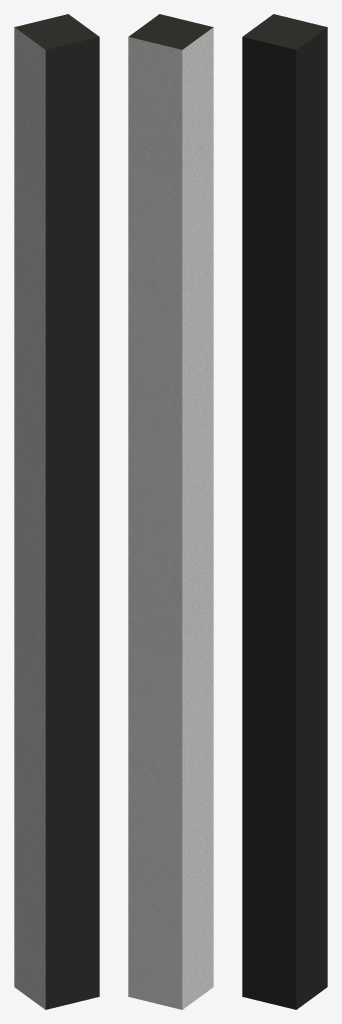
File: VPS_Wall_Tiny.fbx
The picture shows the model from 3 angles, left to right: view 1: azimuth 30°, elevation 25°; view 2: azimuth 150°, elevation 25°; view 3: azimuth 330°, elevation 25°; orthographic projection.
Visible parts, largest first — view 1: GYM_Wall_Tiny_White; view 2: GYM_Wall_Tiny_White; view 3: GYM_Wall_Tiny_White.
Boxes of the visible parts, x1=… form: GYM_Wall_Tiny_White: x1=14, y1=14, x2=99, y2=1009; GYM_Wall_Tiny_White: x1=128, y1=14, x2=213, y2=1009; GYM_Wall_Tiny_White: x1=242, y1=14, x2=327, y2=1009.
Bounding box in the file's own units: 0.5 × 8.5 × 0.5.
2 materials, 1 textured.
